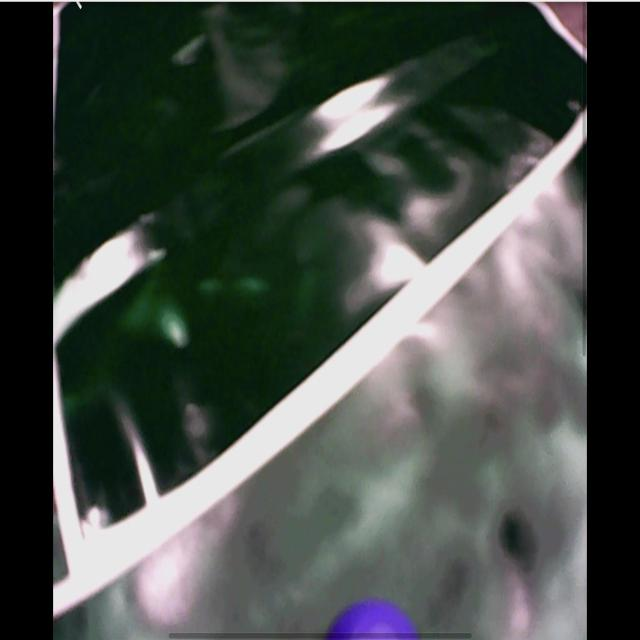ball: (327, 601, 418, 637)
